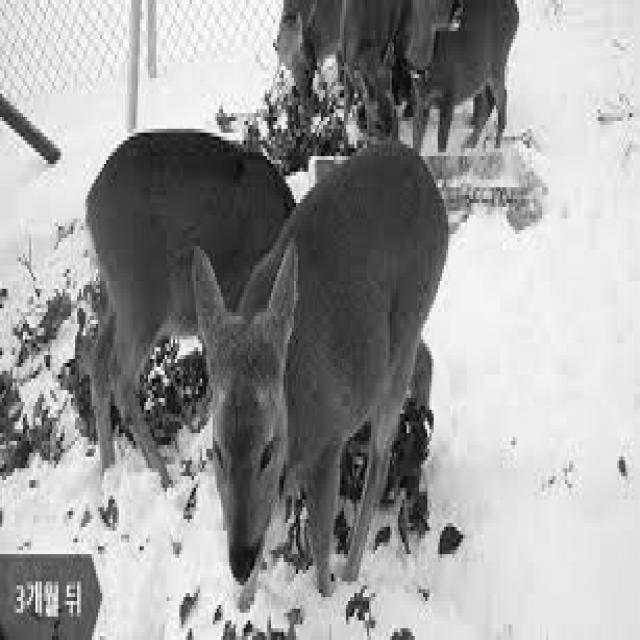Deer: (188, 132, 460, 604)
